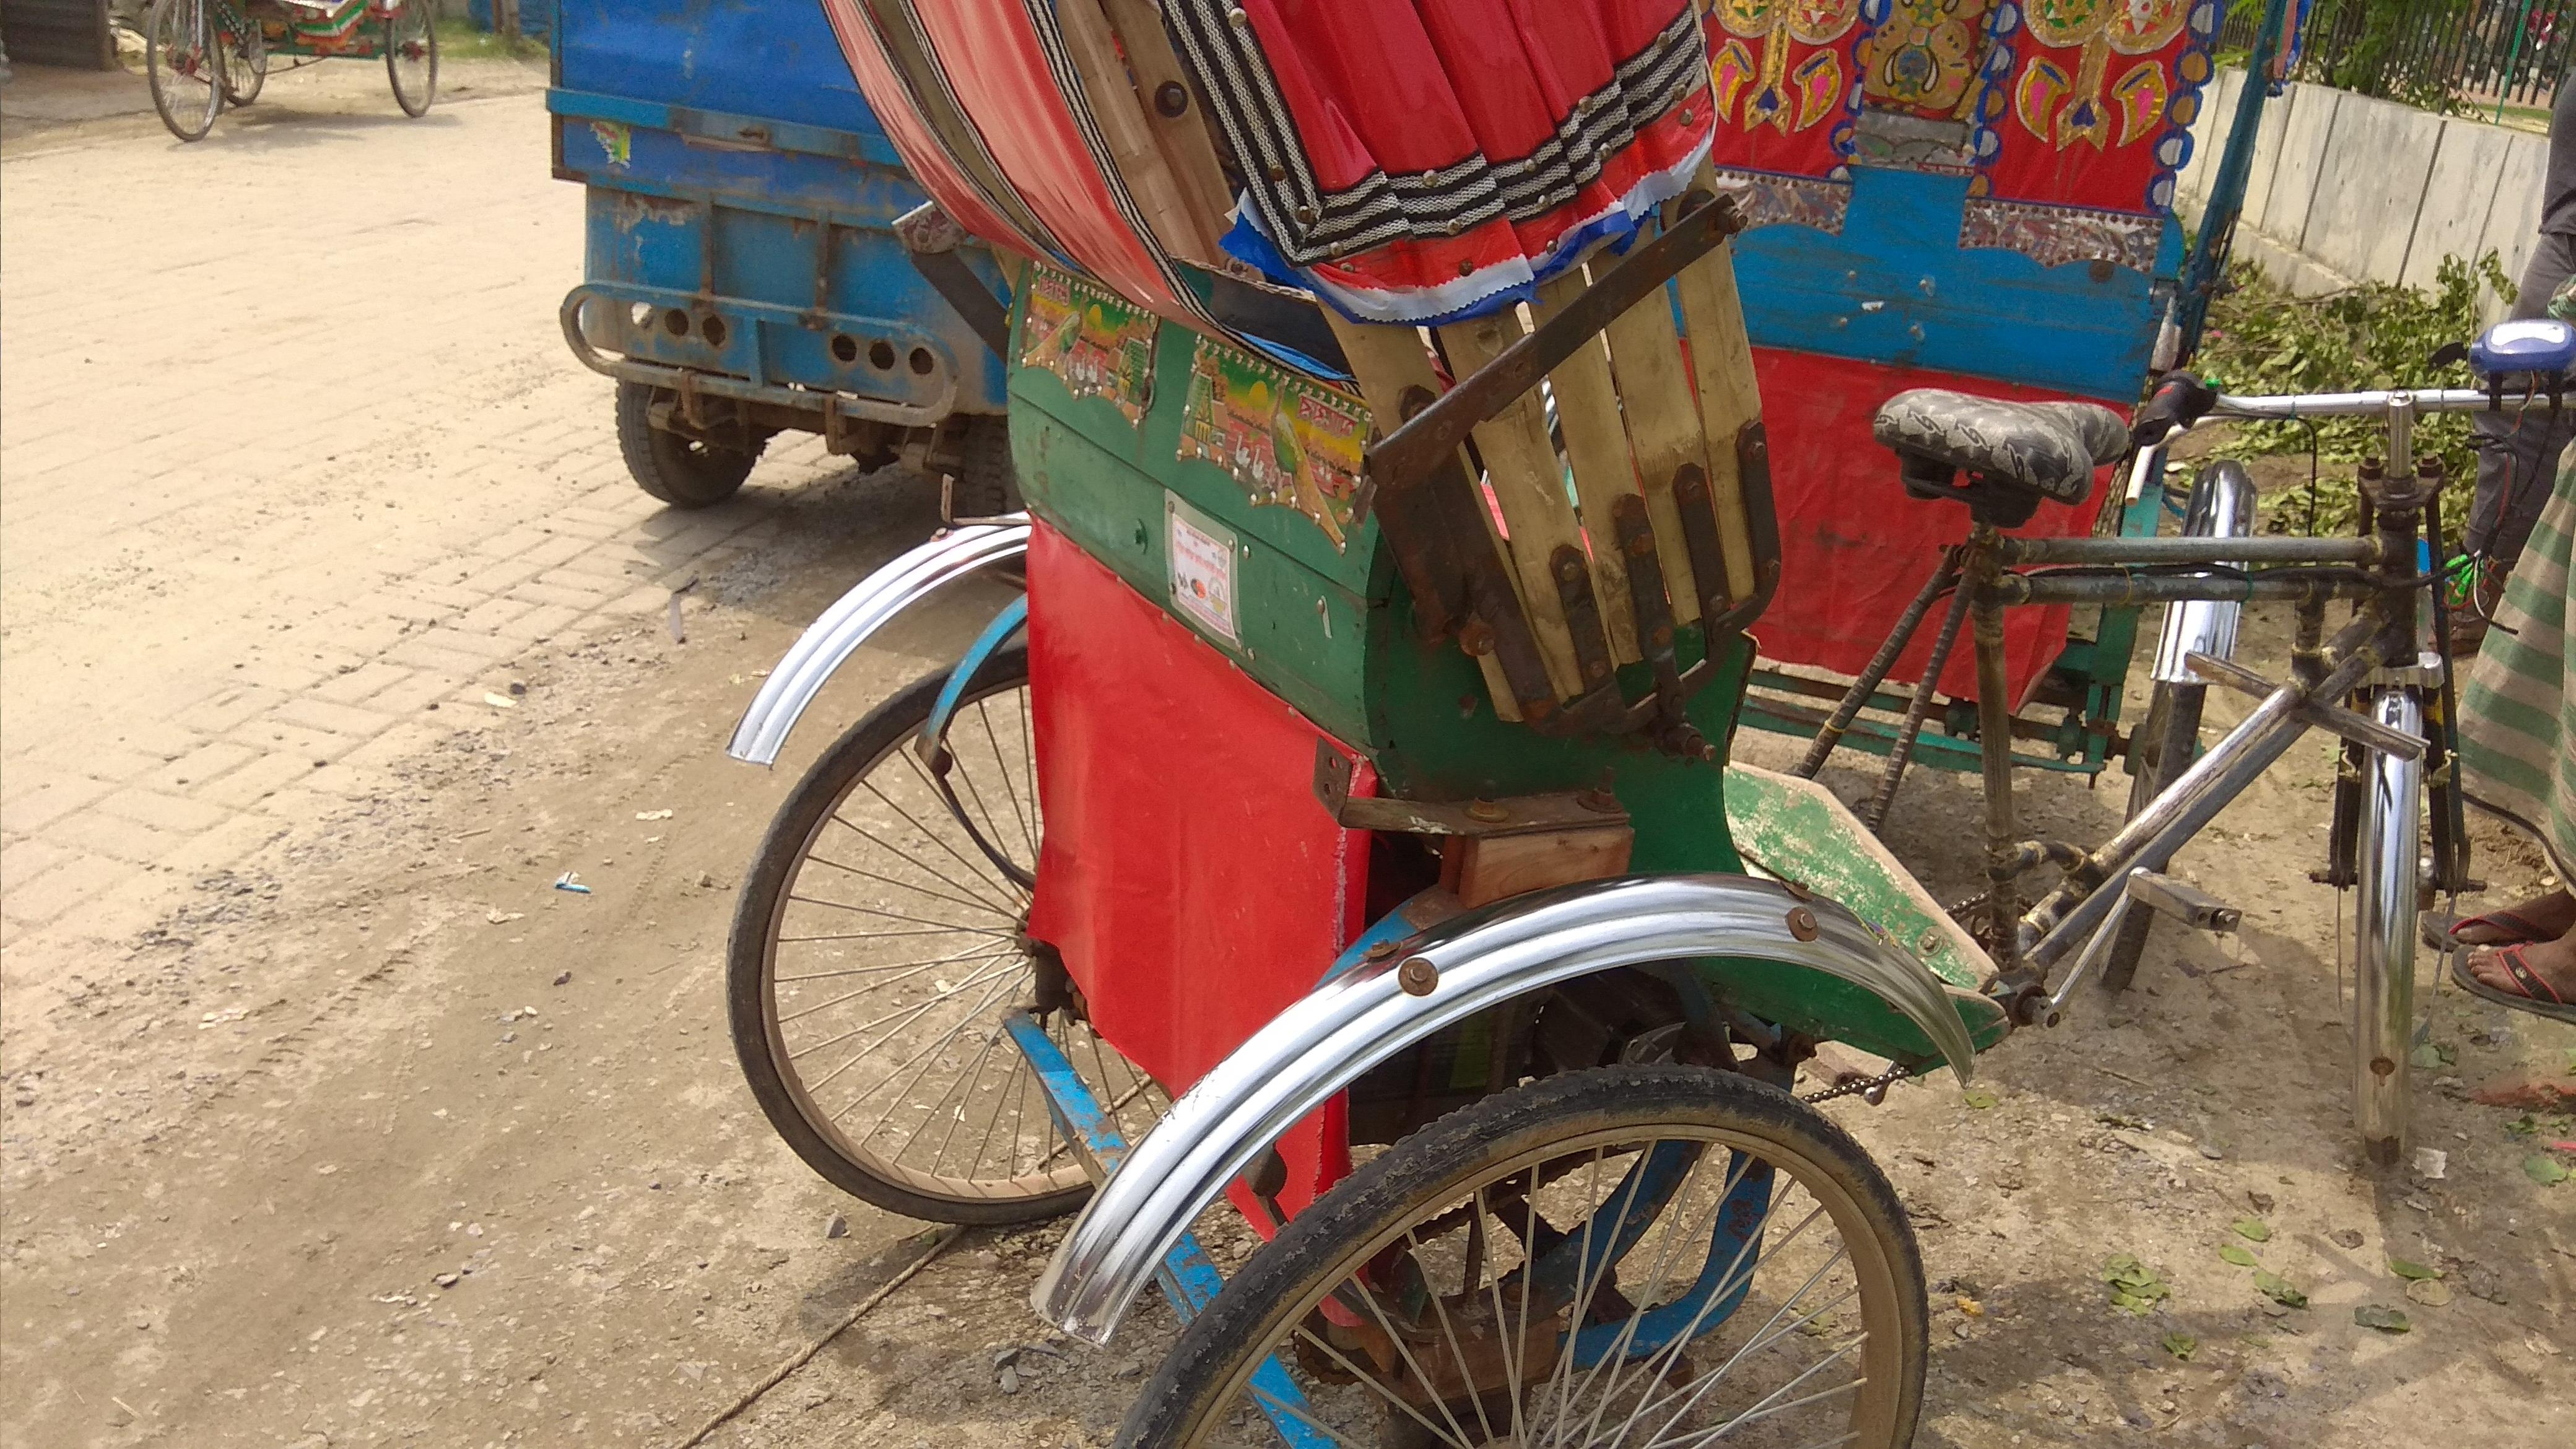Rickshaw: (729, 9, 2544, 1444), (1691, 9, 2304, 1067)
